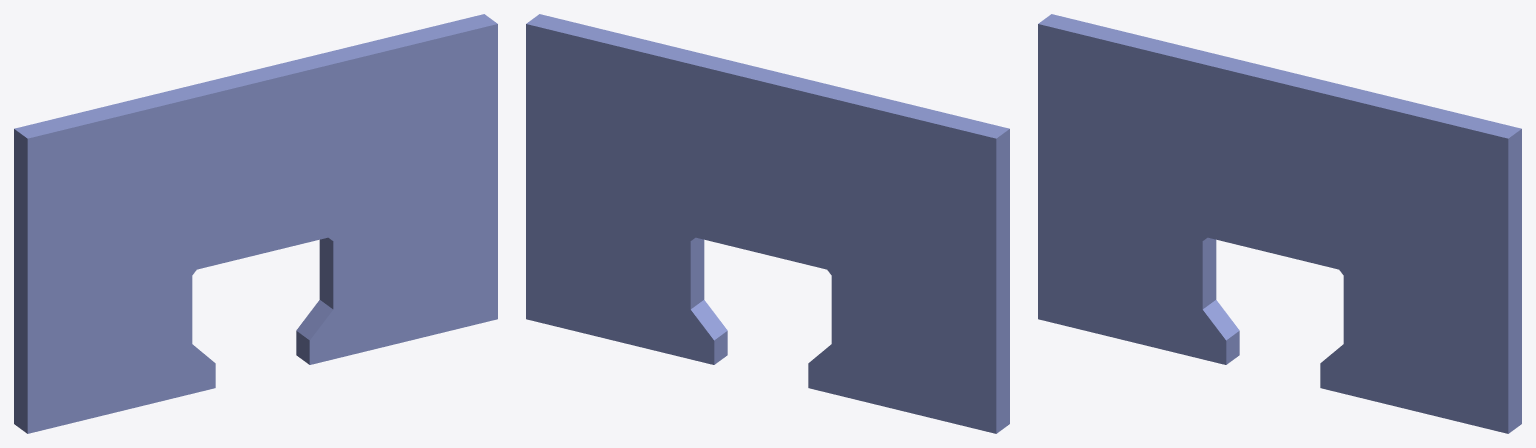
The model's file is wallDoor_lg.fbx.
3 renders of one model, left to right at view 1: azimuth 30°, elevation 25°; view 2: azimuth 150°, elevation 25°; view 3: azimuth 330°, elevation 25°, orthographic.
Parts seen in each view (by area): view 1: wallDoor_lg; view 2: wallDoor_lg; view 3: wallDoor_lg.
Part boxes in pixels (bbox=[...]): wallDoor_lg: bbox=[14, 14, 497, 433]; wallDoor_lg: bbox=[526, 14, 1009, 433]; wallDoor_lg: bbox=[1038, 14, 1521, 433].
Bounding box in the file's own units: 2000 × 1200 × 100.
